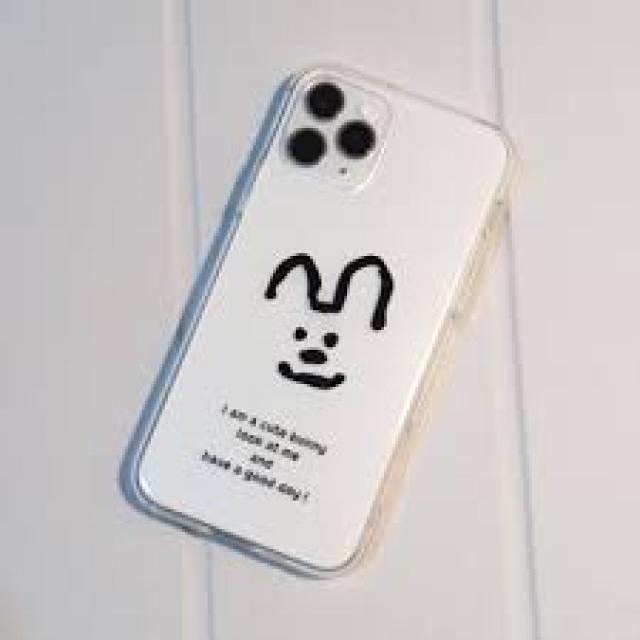Mobile: (123, 68, 507, 583)
